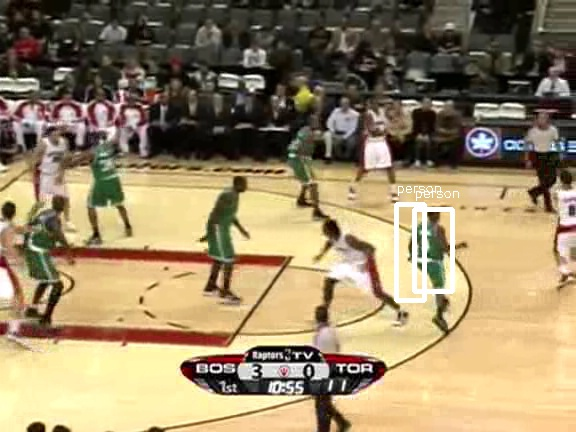person: (413, 217, 447, 298), (412, 217, 446, 298), (414, 217, 448, 298), (413, 216, 447, 297), (413, 218, 447, 299)
target_negative: (208, 7, 428, 185), (172, 30, 235, 342), (251, 330, 470, 403), (368, 341, 455, 391), (264, 384, 547, 391), (552, 6, 564, 67)
